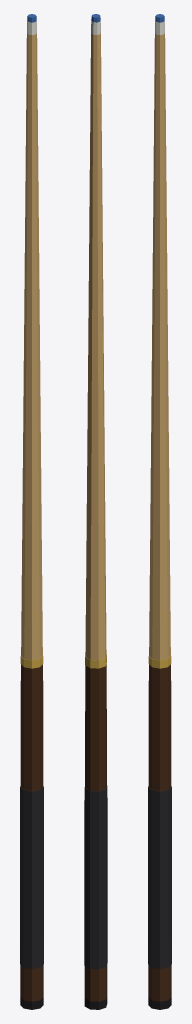
File: pool-cue.glb
The picture shows the model from 3 angles, left to right: view 1: azimuth 90°, elevation 25°; view 2: azimuth 150°, elevation 25°; view 3: azimuth 270°, elevation 25°; orthographic projection.
Visible parts, largest first — view 1: pool_cue; view 2: pool_cue; view 3: pool_cue.
Boxes of the visible parts, x1,y1,x2,y2 form: pool_cue: (20, 14, 43, 1009); pool_cue: (84, 14, 107, 1009); pool_cue: (148, 14, 171, 1009).
Bounding box in the file's own units: 0.032 × 1.45 × 0.032.
